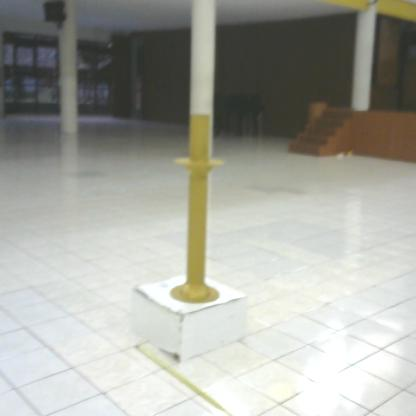pole: (167, 109, 231, 312)
